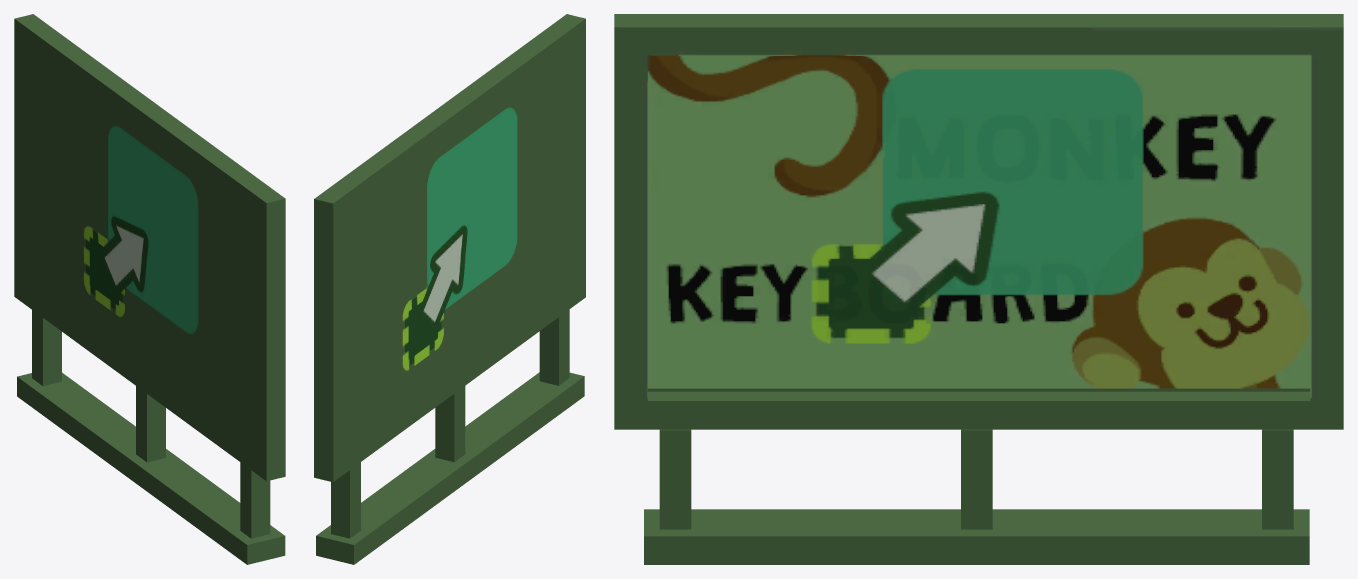
The model's file is BillboardGrow.fbx.
3 views of the same model, side by side, from view 1: azimuth 30°, elevation 25°; view 2: azimuth 150°, elevation 25°; view 3: azimuth 270°, elevation 25° (orthographic). The views are drawn at different scales.
Parts seen in each view (by area): view 1: Billboard; view 2: Billboard; view 3: Billboard.
Part boxes in pixels (x1=…): Billboard: x1=14, y1=14, x2=285, y2=564; Billboard: x1=314, y1=14, x2=585, y2=564; Billboard: x1=614, y1=14, x2=1343, y2=564.
Bounding box in the file's own units: 20 × 185 × 230.
